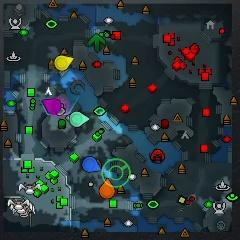p1: (82, 156, 101, 173)
p2: (69, 111, 89, 127)
p3: (41, 99, 62, 114)
p4: (54, 55, 74, 71)
p5: (99, 178, 116, 199)
x4: (89, 33, 105, 52)
